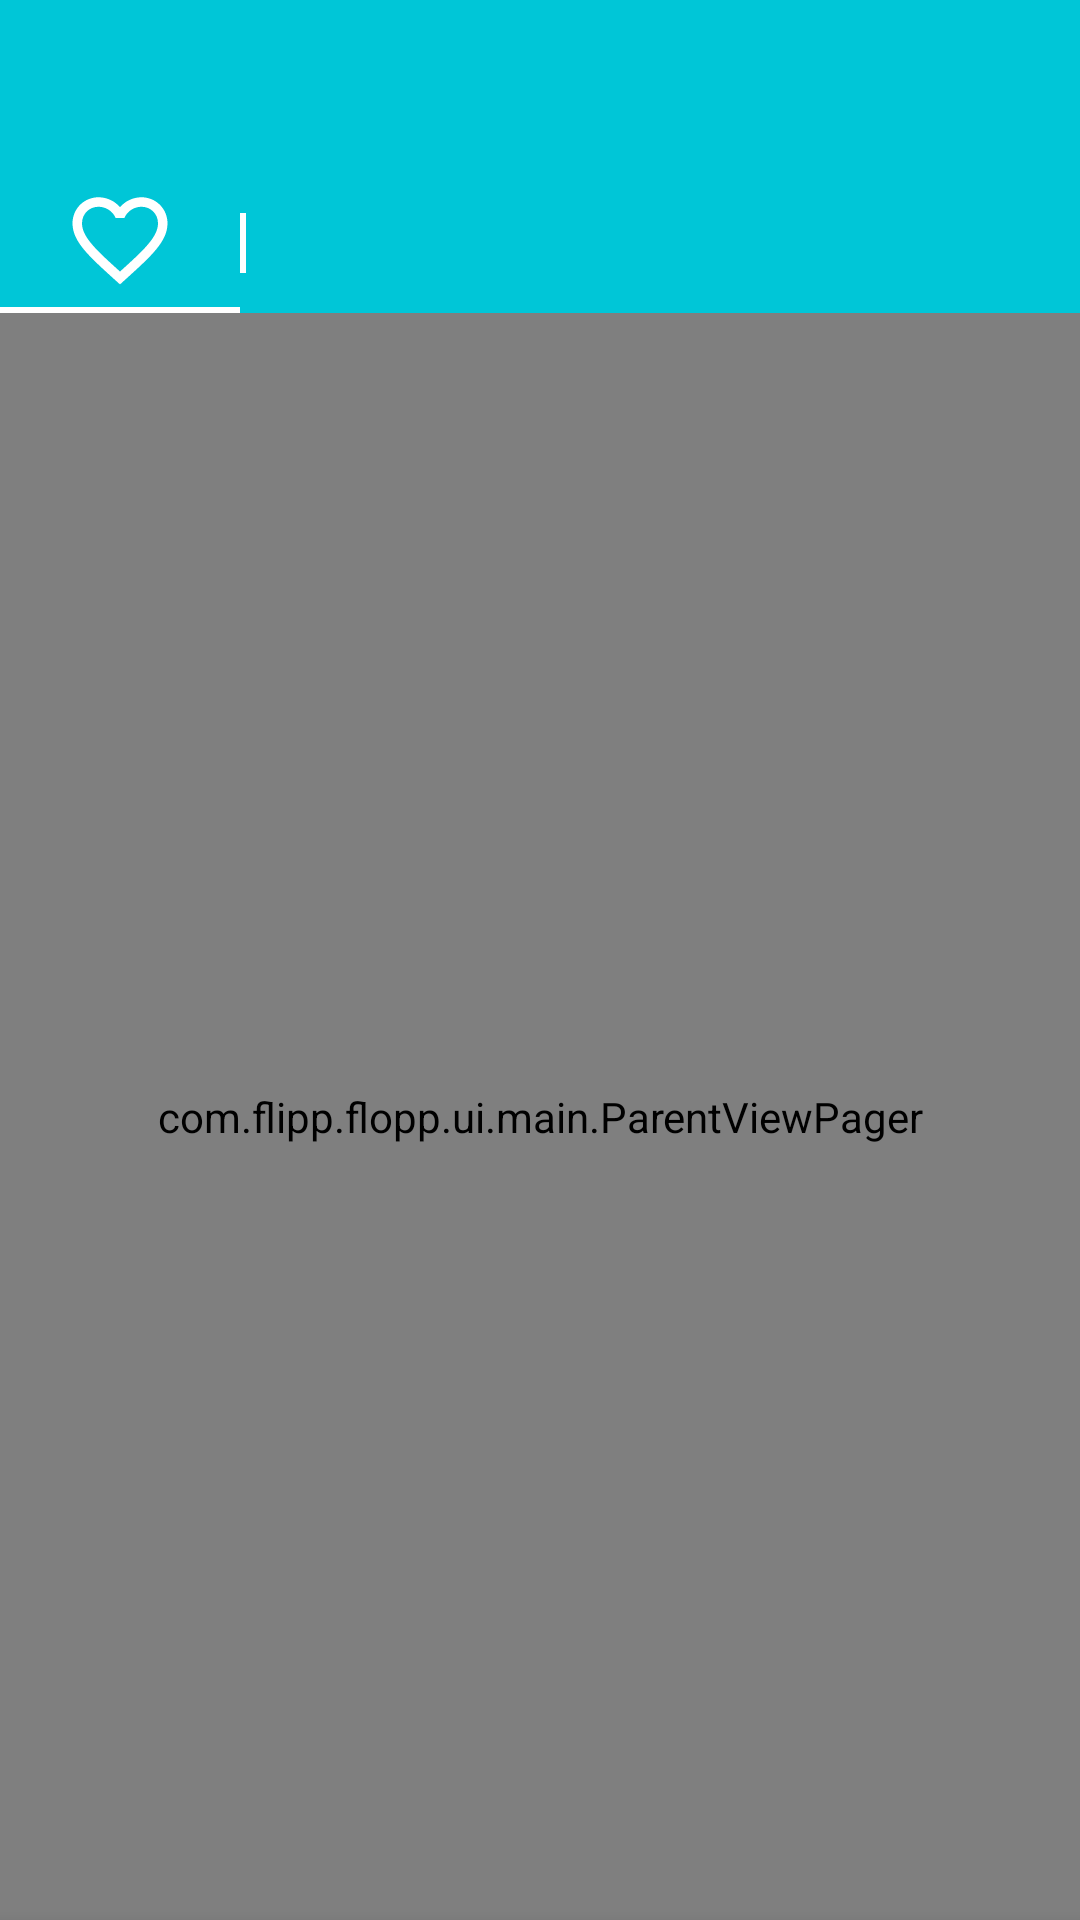

Icons on this 1080px×1920px Android screen, each with the point to tap as (x=x, y=y):
favorite border: (x=120, y=240)
